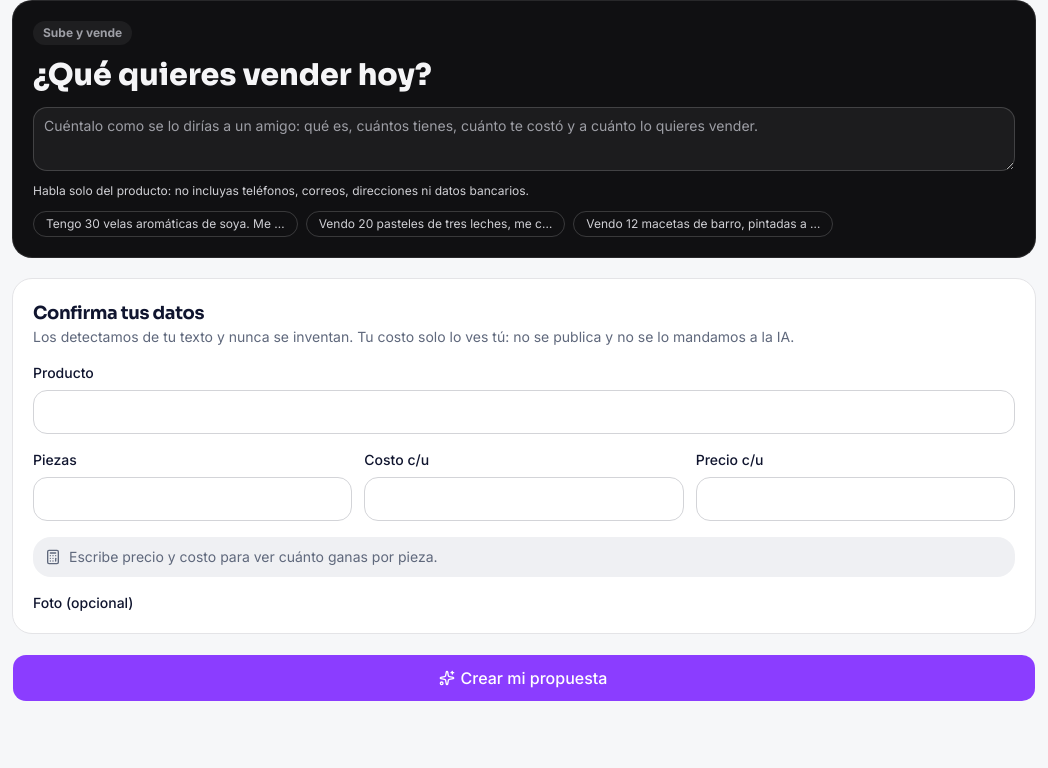
Scenario: SellWithAiForm: la etiqueta sigue a la propuesta que llegó (ADR-038) › un error de IA no disponible se muestra con la salida a mano
Click the button "Crear mi propuesta": (524, 678) [12,654,1036,702]
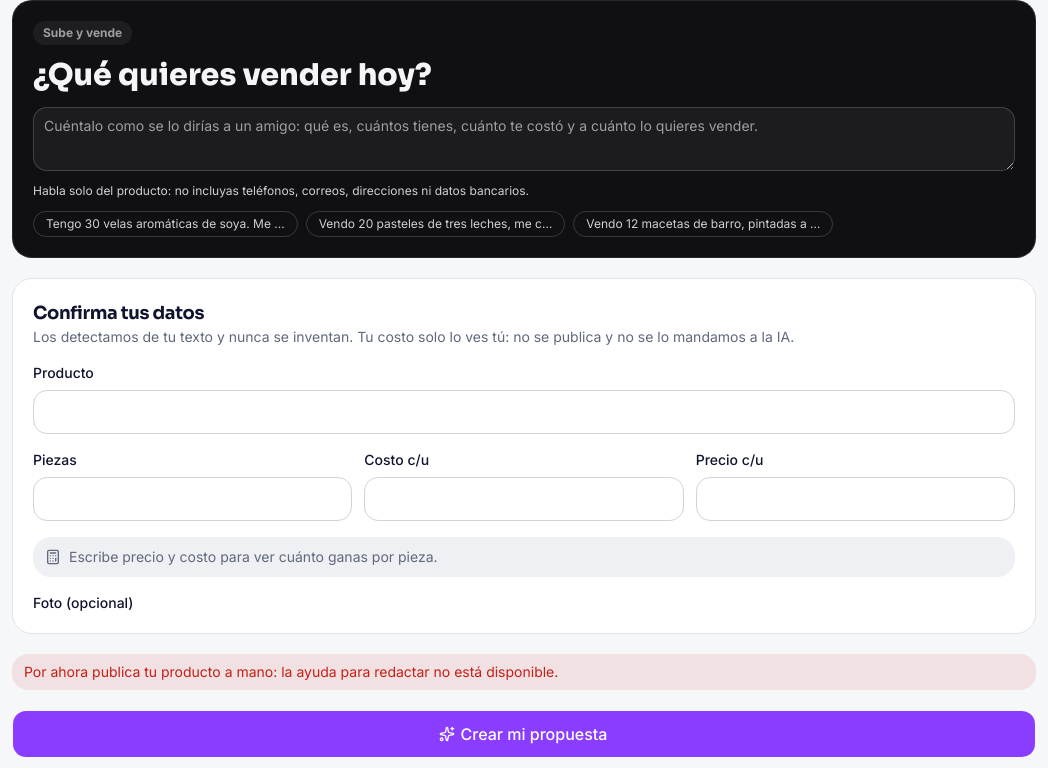
Expected: the message shows "Por ahora publica tu producto a mano", [24,663,558,680]
